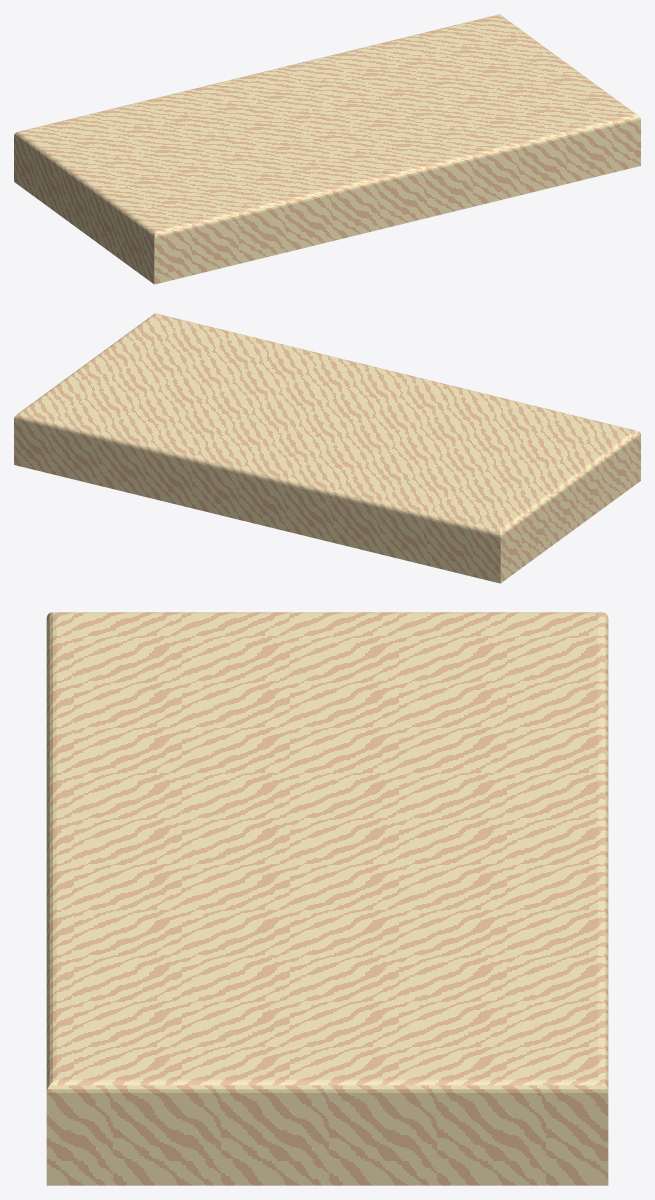
Rendered from Sand level.fbx.
The picture shows the model from 3 angles, top to bottom: view 1: azimuth 30°, elevation 25°; view 2: azimuth 150°, elevation 25°; view 3: azimuth 270°, elevation 25°; orthographic projection. The views are drawn at different scales.
Parts seen in each view (by area): view 1: Plane; view 2: Plane; view 3: Plane.
Boxes of the visible parts, x1=… form: Plane: x1=14, y1=14, x2=640, y2=284; Plane: x1=14, y1=313, x2=640, y2=583; Plane: x1=46, y1=612, x2=608, y2=1185.
Size of the model in its own units: 10000 by 1000 by 5000.
Materials: 1 (1 with a texture image).
